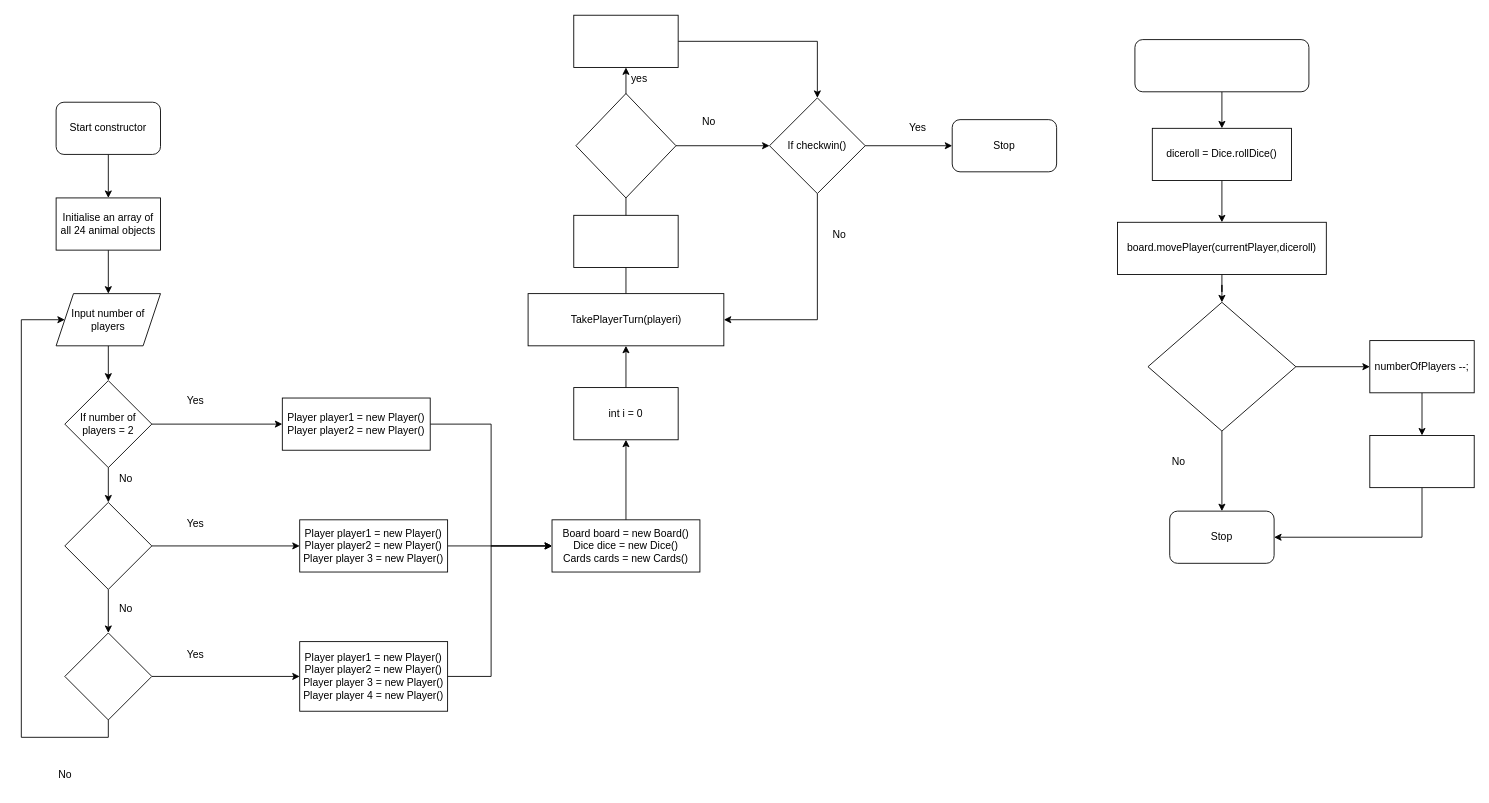
The diagram is 1489 pixels wide and 803 high, and some of its shapes have lost their labels. The shapes that lost their labels are listed below. From the top down, each one's box as (x1, y1, x2, y2) in pixels, then its label:
(573, 14, 678, 67): i = 0
(1134, 39, 1309, 92): Start takePlayerTurn(currentPlayer)
(575, 93, 676, 198): if i = numberOfPlayers
(573, 214, 678, 268): i++
(1147, 301, 1296, 431): if currentPlayer.checkBankrupt
(1369, 435, 1474, 488): Delete the current player from the list of players
(64, 502, 152, 589): If number of players = 3
(64, 632, 152, 720): If number of players = 4
